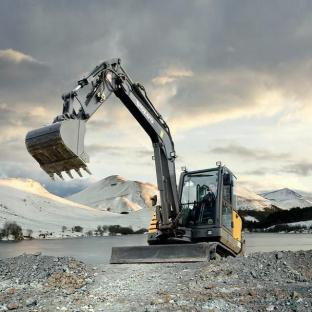ExcavationMachinery: (54, 40, 255, 266)
